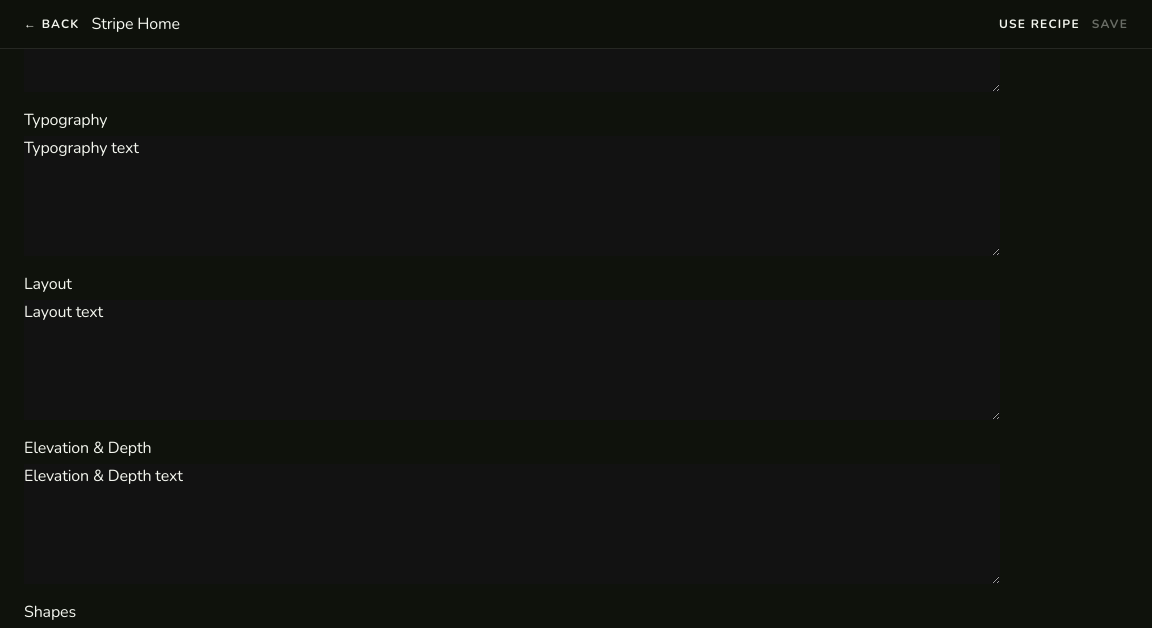
Test: DesignRecipeDetail › is read-only with a notice when the manifest is unsafe
(page scrolled)
Replace the text in the text box labelled "Layout" with "edited" at point(512, 360), box [24, 300, 1000, 420]
(page scrolled)
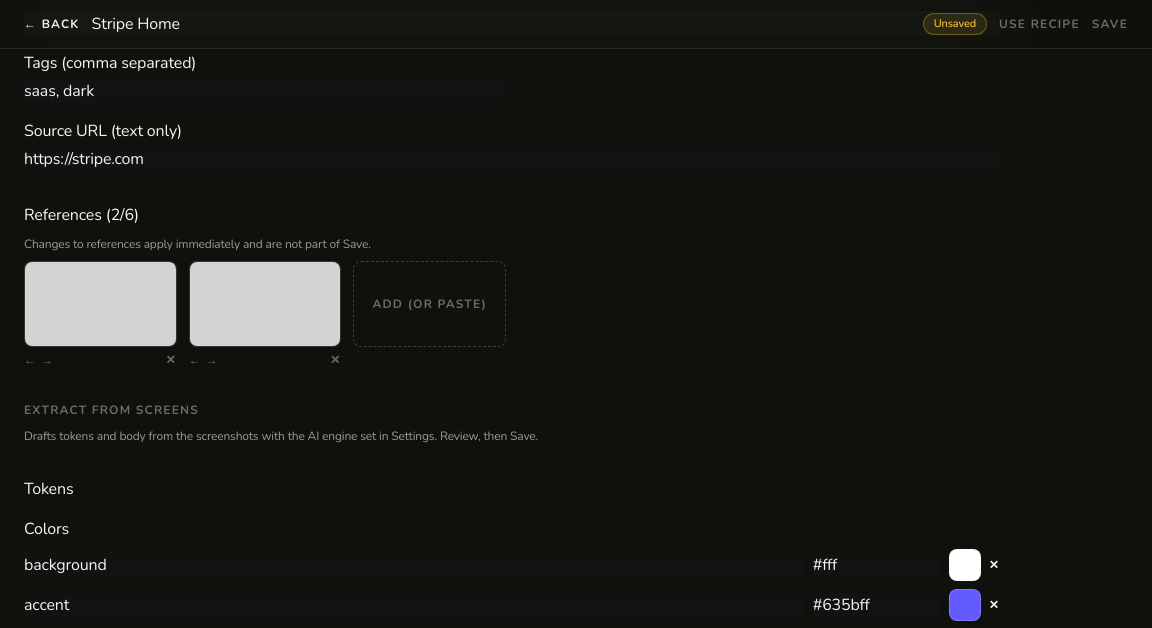
Expected: the button "Save" is disabled, [1092, 15, 1128, 33]
Expected: the button named "Remove reference 1" is disabled, [165, 351, 177, 369]
